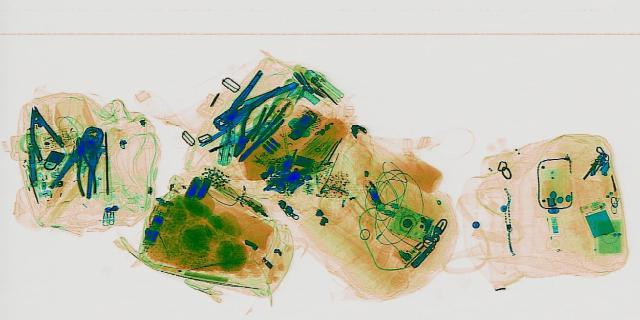Pliers: (191, 69, 295, 132), (42, 124, 120, 198), (219, 102, 275, 156), (233, 116, 287, 160), (68, 136, 98, 194)
